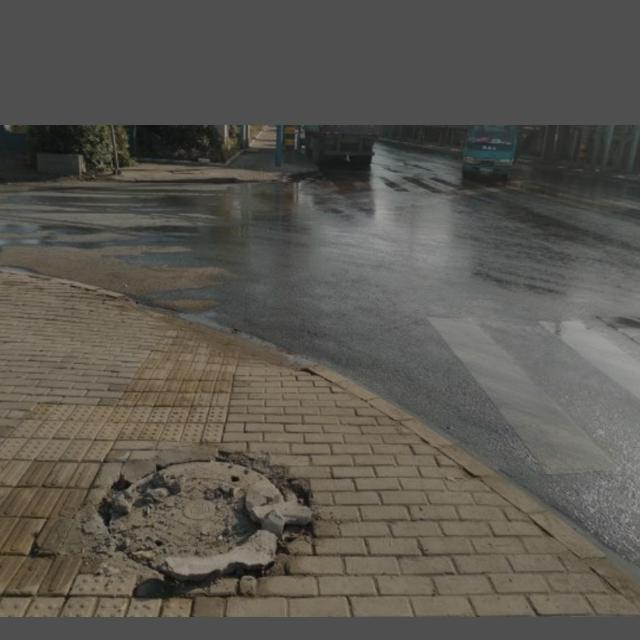circle: (74, 436, 314, 586)
